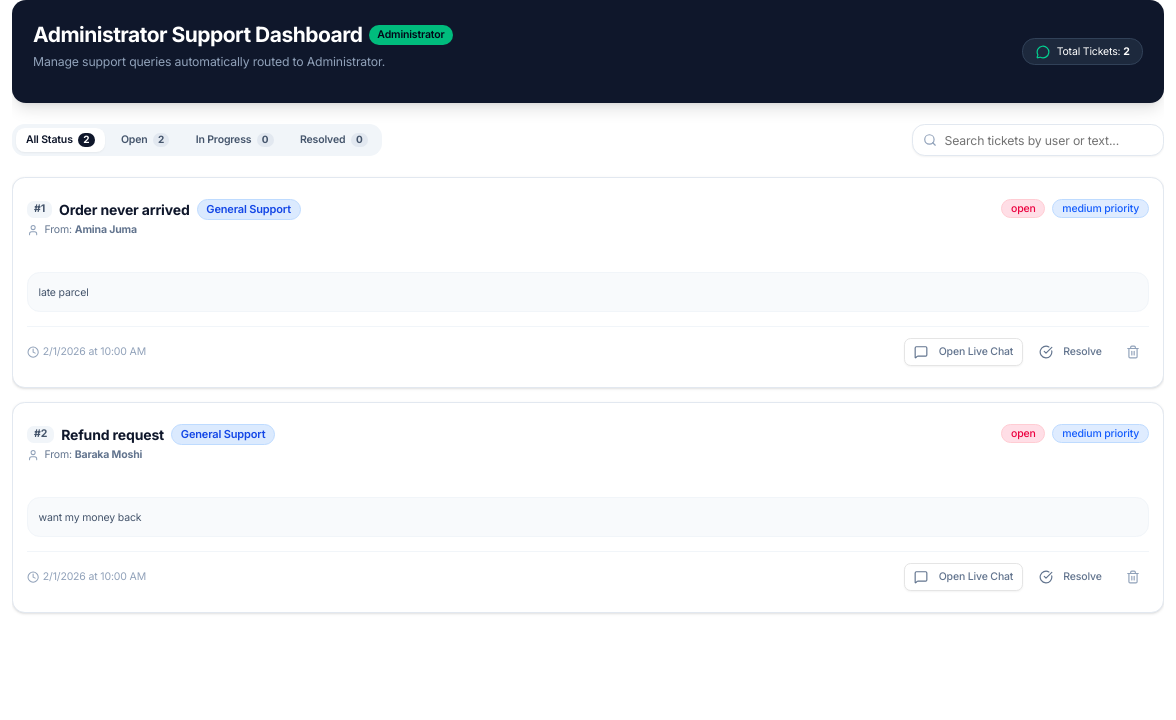
Test case: SupportTicketsTab search › shows the empty state when nothing matches
Type "zzzznomatch" into the field with placeholder "Search tickets by user or text..." at (1038, 140), box [912,124,1164,156]
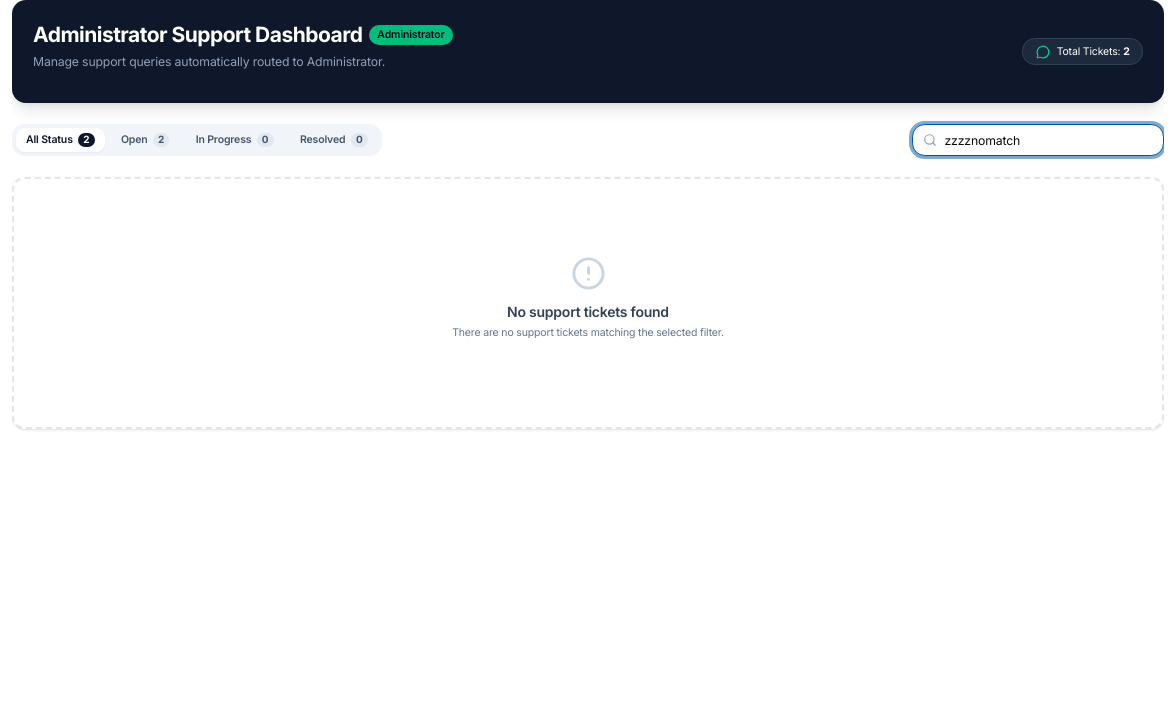
Check: the heading "No support tickets found" is shown, box [507,303,669,320]
